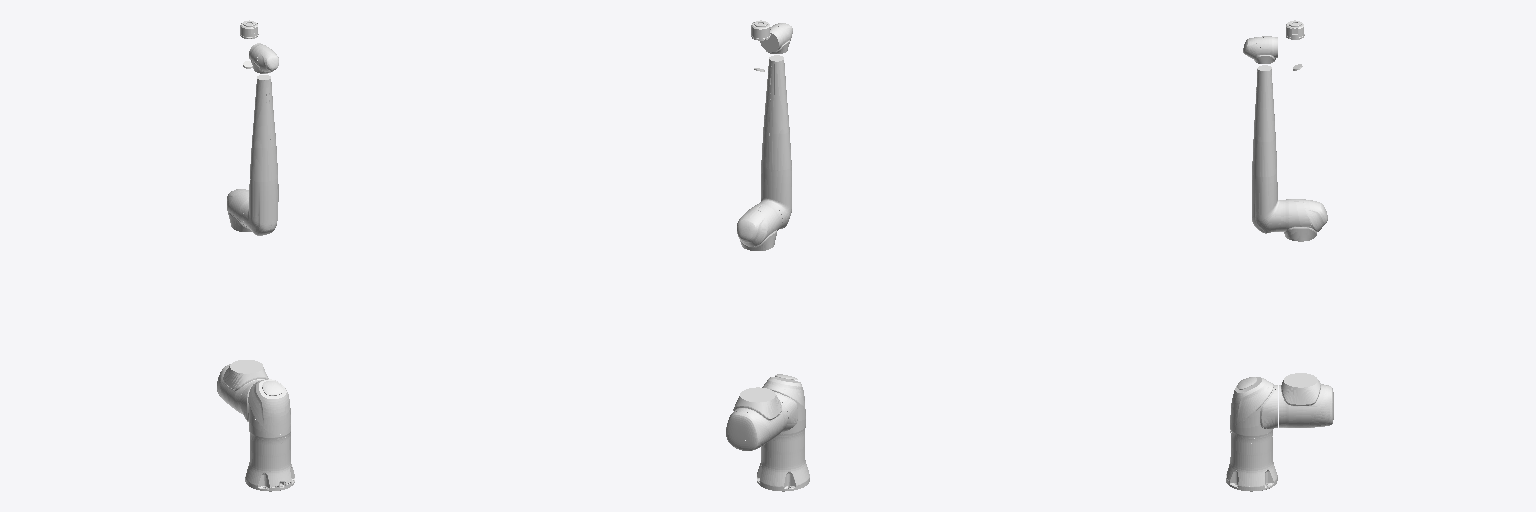
The robot description file, URDF, robot "p3020":
<?xml version="1.0" ?>
<!-- =================================================================================== -->
<!-- |    This document was autogenerated by xacro from /dsr_description2/xacro/p3020.urdf.xacro | -->
<!-- |    EDITING THIS FILE BY HAND IS NOT RECOMMENDED                                 | -->
<!-- =================================================================================== -->
<robot name="p3020">
  <material name="black">
    <color rgba="0.0 0.0 0.0 1.0"/>
  </material>
  <material name="white">
    <color rgba="1.0 1.0 1.0 1.0"/>
  </material>
  <material name="orange">
    <color rgba="1.0 0.4 0.0 1.0"/>
  </material>
  <material name="dr_gray">
    <color rgba="0.490 0.490 0.486 1.0"/>
  </material>
  <material name="dr_white">
    <color rgba="0.941 0.941 0.941 1.0"/>
  </material>
  <material name="dr_blue">
    <color rgba="0 0 0.15 1"/>
  </material>
  <!-- Base Link -->
  <link name="base_link">
    <inertial>
      <mass value="9.55"/>
      <origin xyz="6e-06   -0.007232     0.10749"/>
      <inertia ixx="0.01" ixy="0.00001" ixz="0.00001" iyy="0.01" iyz="0.00001" izz="0.01"/>
    </inertial>
    <visual>
      <origin rpy="0 0 0" xyz="0 0 0"/>
      <geometry>
        <mesh filename="package://dsr_description2/meshes/p3020/P3020_0_1.STL" scale="0.001 0.001 0.001"/>
      </geometry>
      <material name="dr_white"/>
    </visual>
  </link>
  <!-- link_1 -->
  <link name="link_1">
    <inertial>
      <mass value="28.624"/>
      <origin xyz="-1.1e-05     0.11205   -0.065579"/>
      <inertia ixx="0.69287" ixy="0.0" ixz="0.0" iyy="0.36715" iyz="0.0" izz="0.46086"/>
    </inertial>
    <visual>
      <origin xyz="0 0 -0.3943"/>
      <geometry>
        <mesh filename="package://dsr_description2/meshes/p3020/P3020_1_1.STL" scale="0.001 0.001 0.001"/>
      </geometry>
      <material name="dr_white"/>
    </visual>
    <visual>
      <origin xyz="0 0 -0.3943"/>
      <geometry>
        <mesh filename="package://dsr_description2/meshes/p3020/P3020_1_2.STL" scale="0.001 0.001 0.001"/>
      </geometry>
      <material name="dr_white"/>
    </visual>
    <visual>
      <origin xyz="0 0 -0.3943"/>
      <geometry>
        <mesh filename="package://dsr_description2/meshes/p3020/P3020_1_3.STL" scale="0.001 0.001 0.001"/>
      </geometry>
      <material name="dr_white"/>
    </visual>
    <visual>
      <origin xyz="0 0 -0.3943"/>
      <geometry>
        <mesh filename="package://dsr_description2/meshes/p3020/P3020_1_4.STL" scale="0.001 0.001 0.001"/>
      </geometry>
      <material name="dr_white"/>
    </visual>
    <visual>
      <origin xyz="0 0 -0.3943"/>
      <geometry>
        <mesh filename="package://dsr_description2/meshes/p3020/P3020_1_5.STL" scale="0.001 0.001 0.001"/>
      </geometry>
      <material name="dr_white"/>
    </visual>
  </link>
  <!-- link_2 -->
  <link name="link_2">
    <inertial>
      <mass value="30.357"/>
      <origin xyz="0.4005       5e-06    0.006736"/>
      <inertia ixx="0.17985" ixy="0.000214" ixz="0.00018611" iyy="4.5411" iyz="0.0" izz="4.4825"/>
    </inertial>
    <visual>
      <!-- <origin xyz="0 -0.2351 -0.3943" rpy="0  -1.5708 -1.-0.3943708"/> -->
      <origin rpy="1.5708 0 1.5708" xyz="-0.3943 0 -0.2351"/>
      <geometry>
        <mesh filename="package://dsr_description2/meshes/p3020/P3020_2_1.STL" scale="0.001 0.001 0.001"/>
      </geometry>
      <material name="dr_white"/>
    </visual>
    <visual>
      <!-- <origin xyz="0 -0.2351 -0.3943" rpy="-1.5708  -1.5708 -1.5708"/> -->
      <origin rpy="1.5708 0 1.5708" xyz="-0.3943 0 -0.2351"/>
      <geometry>
        <mesh filename="package://dsr_description2/meshes/p3020/P3020_2_2.STL" scale="0.001 0.001 0.001"/>
      </geometry>
      <material name="dr_white"/>
    </visual>
    <visual>
      <!-- <origin xyz="0 -0.2351 -0.3943" rpy="-1.5708  0 1.5708"/> -->
      <origin rpy="1.5708 0 1.5708" xyz="-0.3943 0 -0.2351"/>
      <geometry>
        <mesh filename="package://dsr_description2/meshes/p3020/P3020_2_3.STL" scale="0.001 0.001 0.001"/>
      </geometry>
      <material name="dr_white"/>
    </visual>
    <visual>
      <!-- <origin xyz="0 -0.2351 -0.3943" rpy="-1.5708  0 1.5708"/> -->
      <origin rpy="1.5708 0 1.5708" xyz="-0.3943 0 -0.2351"/>
      <geometry>
        <mesh filename="package://dsr_description2/meshes/p3020/P3020_2_4.STL" scale="0.001 0.001 0.001"/>
      </geometry>
      <material name="dr_white"/>
    </visual>
    <visual>
      <!-- <origin xyz="0 -0.2351 -0.3943" rpy="-1.5708  0 1.5708"/> -->
      <origin rpy="1.5708 0 1.5708" xyz="-0.3943 0 -0.2351"/>
      <geometry>
        <mesh filename="package://dsr_description2/meshes/p3020/P3020_2_5.STL" scale="0.001 0.001 0.001"/>
      </geometry>
      <material name="dr_white"/>
    </visual>
    <visual>
      <!-- <origin xyz="0 -0.2351 -0.3943" rpy="-1.5708  0 1.5708"/> -->
      <origin rpy="1.5708 0 1.5708" xyz="-0.3943 0 -0.2351"/>
      <geometry>
        <mesh filename="package://dsr_description2/meshes/p3020/P3020_2_6.STL" scale="0.001 0.001 0.001"/>
      </geometry>
      <material name="dr_white"/>
    </visual>
    <visual>
      <!-- <origin xyz="0 -0.2351 -0.3943" rpy="-1.5708  0 1.5708"/> -->
      <origin rpy="1.5708 0 1.5708" xyz="-0.3943 0 -0.2351"/>
      <geometry>
        <mesh filename="package://dsr_description2/meshes/p3020/P3020_2_7.STL" scale="0.001 0.001 0.001"/>
      </geometry>
      <material name="dr_white"/>
    </visual>
    <visual>
      <!-- <origin xyz="0 -0.2351 -0.3943" rpy="-1.5708  0 1.5708"/> -->
      <origin rpy="1.5708 0 1.5708" xyz="-0.3943 0 -0.2351"/>
      <geometry>
        <mesh filename="package://dsr_description2/meshes/p3020/P3020_2_8.STL" scale="0.001 0.001 0.001"/>
      </geometry>
      <material name="dr_white"/>
    </visual>
  </link>
  <!-- link_3 -->
  <link name="link_3">
    <inertial>
      <mass value="2.836"/>
      <origin xyz="1.8e-05   -0.010564    -0.12656"/>
      <inertia ixx="0.01971" ixy="0.0" ixz="0.0" iyy="0.017956" iyz="3.5784e-06" izz="0.017026"/>
    </inertial>
    <visual>
      <origin rpy="1.5708 0 0" xyz="0 1.4043 -0.2351"/>
      <geometry>
        <mesh filename="package://dsr_description2/meshes/p3020/P3020_3_1.STL" scale="0.001 0.001 0.001"/>
      </geometry>
      <material name="dr_white"/>
    </visual>
    <visual>
      <origin rpy="1.5708 0 0" xyz="0 1.4043 -0.2351"/>
      <geometry>
        <mesh filename="package://dsr_description2/meshes/p3020/P3020_3_2.STL" scale="0.001 0.001 0.001"/>
      </geometry>
      <material name="dr_white"/>
    </visual>
    <visual>
      <origin rpy="1.5708 0 0" xyz="0 1.4043 -0.2351"/>
      <geometry>
        <mesh filename="package://dsr_description2/meshes/p3020/P3020_3_3.STL" scale="0.001 0.001 0.001"/>
      </geometry>
      <material name="dr_white"/>
    </visual>
    <visual>
      <origin rpy="1.5708 0 0" xyz="0 1.4043 -0.2351"/>
      <geometry>
        <mesh filename="package://dsr_description2/meshes/p3020/P3020_3_4.STL" scale="0.001 0.001 0.001"/>
      </geometry>
      <material name="dr_white"/>
    </visual>
  </link>
  <!-- link_4 (Dummy Link for joint_4) -->
  <link name="link_4">
    <inertial>
      <mass value="6.057"/>
      <origin xyz="-2.2e-05    -0.12656    -0.30746"/>
      <inertia ixx="0.56389" ixy="0.0" ixz="0.0" iyy="0.56341" iyz="0.0" izz="0.023517"/>
    </inertial>
  </link>
  <!-- link_5 -->
  <link name="link_5">
    <inertial>
      <mass value="2.959"/>
      <origin xyz="2.9e-05    -0.00224   -0.050131"/>
      <inertia ixx="0.016572" ixy="0.0" ixz="0.0" iyy="0.013688" iyz="0.0" izz="0.0099949"/>
    </inertial>
    <visual>
      <origin rpy="1.5708 0 0" xyz="0 2.2943 -0.2079"/>
      <geometry>
        <mesh filename="package://dsr_description2/meshes/p3020/P3020_5_1.STL" scale="0.001 0.001 0.001"/>
      </geometry>
      <material name="dr_white"/>
    </visual>
    <visual>
      <origin rpy="1.5708 0 0" xyz="0 2.2943 -0.2079"/>
      <geometry>
        <mesh filename="package://dsr_description2/meshes/p3020/P3020_5_2.STL" scale="0.001 0.001 0.001"/>
      </geometry>
      <material name="dr_white"/>
    </visual>
    <visual>
      <origin rpy="1.5708 0 0" xyz="0 2.2943 -0.2079"/>
      <geometry>
        <mesh filename="package://dsr_description2/meshes/p3020/P3020_5_3.STL" scale="0.001 0.001 0.001"/>
      </geometry>
      <material name="dr_white"/>
    </visual>
  </link>
  <!-- link_6 -->
  <link name="link_6">
    <inertial>
      <mass value="1.087"/>
      <origin xyz="-0.000232   -0.027102   -0.055618"/>
      <inertia ixx="0.007557" ixy="0.0" ixz="0.0" iyy="0.0071074" iyz="0.0" izz="0.0078136"/>
    </inertial>
    <visual>
      <origin rpy="0 0 0" xyz="0 -0.2079 -2.4243"/>
      <geometry>
        <mesh filename="package://dsr_description2/meshes/p3020/P3020_6_1.STL" scale="0.001 0.001 0.001"/>
      </geometry>
      <material name="dr_white"/>
    </visual>
  </link>
  <!-- Joints -->
  <joint name="joint_1" type="revolute">
    <parent link="base_link"/>
    <child link="link_1"/>
    <origin rpy="0  0  0" xyz="0           0      0.3943"/>
    <axis xyz="0 0 1"/>
    <limit effort="459" lower="-6.2832" upper="6.2832" velocity="1.7453"/>
  </joint>
  <joint name="joint_2" type="revolute">
    <parent link="link_1"/>
    <child link="link_2"/>
    <origin rpy="0     -1.5708     -1.5708" xyz="0      0.2351           0"/>
    <axis xyz="0 0 1"/>
    <limit effort="841" lower="-2.1817" upper="2.1817" velocity="1.3963"/>
  </joint>
  <joint name="joint_3" type="revolute">
    <parent link="link_2"/>
    <child link="link_3"/>
    <origin rpy="0           0      1.5708" xyz="1.01           0           0"/>
    <axis xyz="0 0 1"/>
    <limit effort="484" lower="-2.7925" upper="2.7925" velocity="1.3963"/>
  </joint>
  <!-- Dummy joint_4 -->
  <joint name="joint_4" type="fixed">
    <parent link="link_3"/>
    <child link="link_4"/>
    <origin rpy="1.5708           0           0" xyz="0       -0.89           -0.1731"/>
    <axis xyz="0 0 1"/>
    <!-- <limit effort="163" lower="0" upper="0" velocity="0"/> -->
  </joint>
  <joint name="joint_5" type="revolute">
    <parent link="link_4"/>
    <child link="link_5"/>
    <origin rpy="-1.5708           0           0" xyz="0  0.1459  0"/>
    <axis xyz="0 0 1"/>
    <limit effort="70" lower="-6.2832" upper="6.2832" velocity="3.4907"/>
  </joint>
  <joint name="joint_6" type="revolute">
    <parent link="link_5"/>
    <child link="link_6"/>
    <origin rpy="1.5708           0           0" xyz="0       -0.13           0"/>
    <axis xyz="0 0 1"/>
    <limit effort="50" lower="-6.2832" upper="6.2832" velocity="6.2832"/>
  </joint>
</robot>

--- Render facts (derived) ---
The picture shows the robot from 3 angles, left to right: view 1: azimuth 30°, elevation 25°; view 2: azimuth 150°, elevation 25°; view 3: azimuth 270°, elevation 25°; orthographic projection.
Model p3020 with 7 links and 6 joints (5 revolute, 1 fixed), rooted at base_link, posed all joints at 0.
Links seen in each view (by area): view 1: link_3, link_1, base_link, link_2; view 2: link_3, link_2, base_link, link_1; view 3: link_3, link_2, link_1, base_link.
Link boxes in pixels (x1,y1,x2,y2): link_3: (243, 43, 278, 235); link_1: (240, 379, 290, 439); base_link: (245, 434, 294, 491); link_2: (217, 189, 268, 413); link_3: (760, 23, 792, 228); link_2: (726, 202, 787, 450); base_link: (757, 430, 809, 491); link_1: (762, 374, 805, 436); link_3: (1243, 36, 1280, 233); link_2: (1279, 199, 1333, 427); link_1: (1230, 377, 1277, 438); base_link: (1226, 431, 1277, 491).
Size in the robot's own frame: 0.2479 by 0.519 by 2.42 metres.
Meshes: 22 distinct files referenced, 15 mesh visuals loaded (15 binary STL); not drawn: 7 (reference not matched to a file when rendering).
